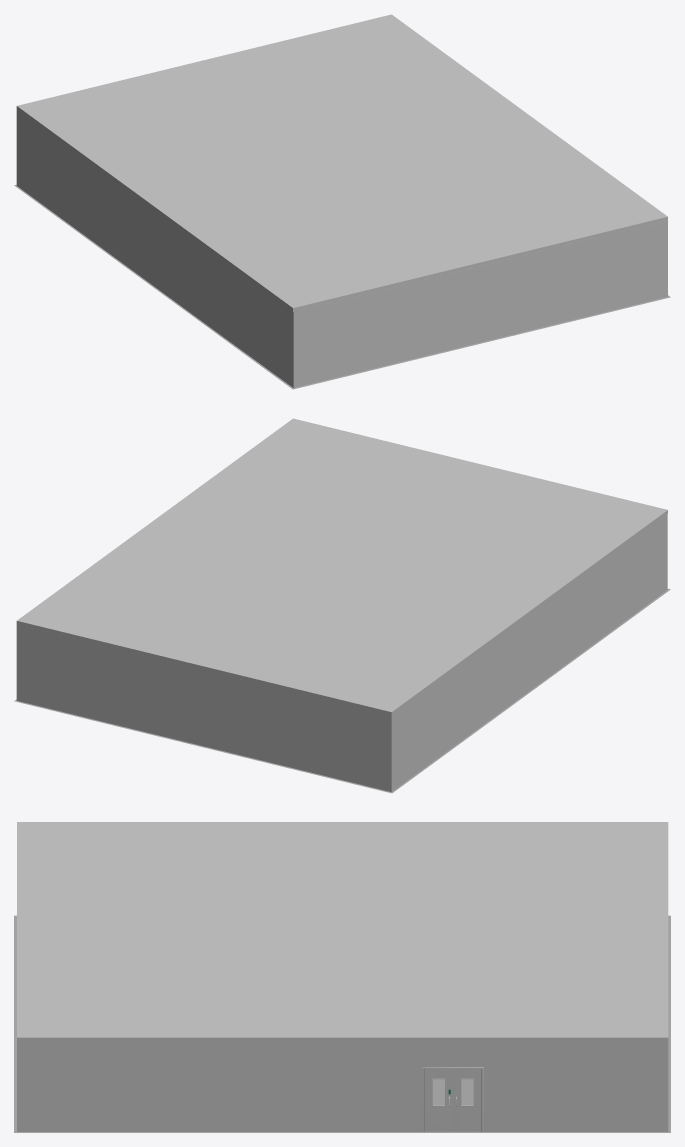
The model's file is Room Model.fbx.
3 views of the same model, one above another, from view 1: azimuth 30°, elevation 25°; view 2: azimuth 150°, elevation 25°; view 3: azimuth 270°, elevation 25° (orthographic). The views are drawn at different scales.
Parts seen in each view (by area): view 1: Room_1, Room_48, Room_35; view 2: Room_1, Room_48, Room_35; view 3: Room_1, Room_48, Room_35, Room_38, Room_49, Room_61.
Boxes of the visible parts, box(x1,y1,x2,y2) form: Room_1: box(16, 14, 667, 311); Room_48: box(16, 110, 667, 387); Room_35: box(14, 185, 670, 389); Room_1: box(16, 418, 667, 715); Room_48: box(16, 514, 667, 791); Room_35: box(14, 588, 670, 793); Room_1: box(17, 822, 668, 1042); Room_48: box(17, 1042, 668, 1131); Room_35: box(14, 915, 670, 1132); Room_38: box(424, 1069, 453, 1131); Room_49: box(453, 1069, 481, 1131); Room_61: box(422, 1067, 483, 1131).
Bounding box in the file's own units: 1416 × 288 × 1807.
